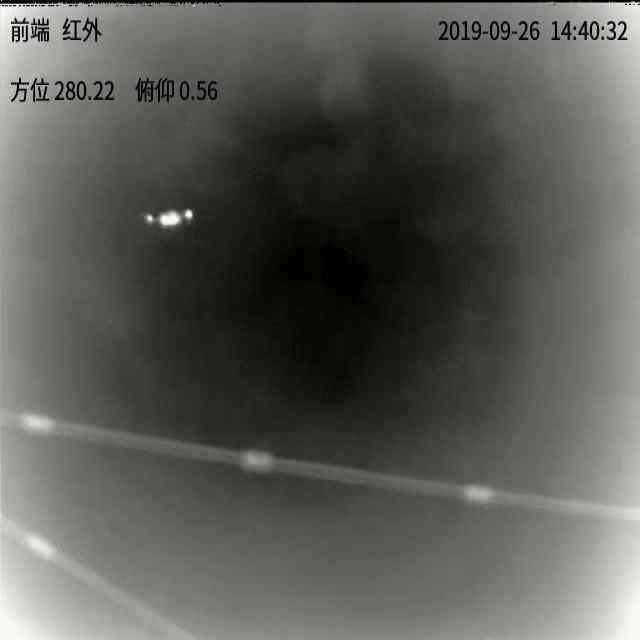drone: (144, 209, 194, 228)
